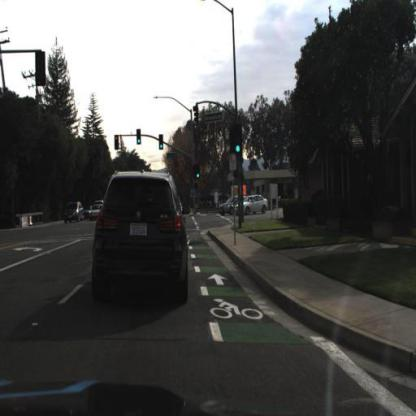car: (92, 165, 194, 309), (233, 194, 270, 217), (60, 195, 86, 227), (92, 203, 104, 222)
trafficLight: (111, 128, 123, 156)
trafficLight-Green: (230, 120, 245, 162), (136, 130, 142, 145), (159, 134, 164, 149), (197, 168, 202, 182)
